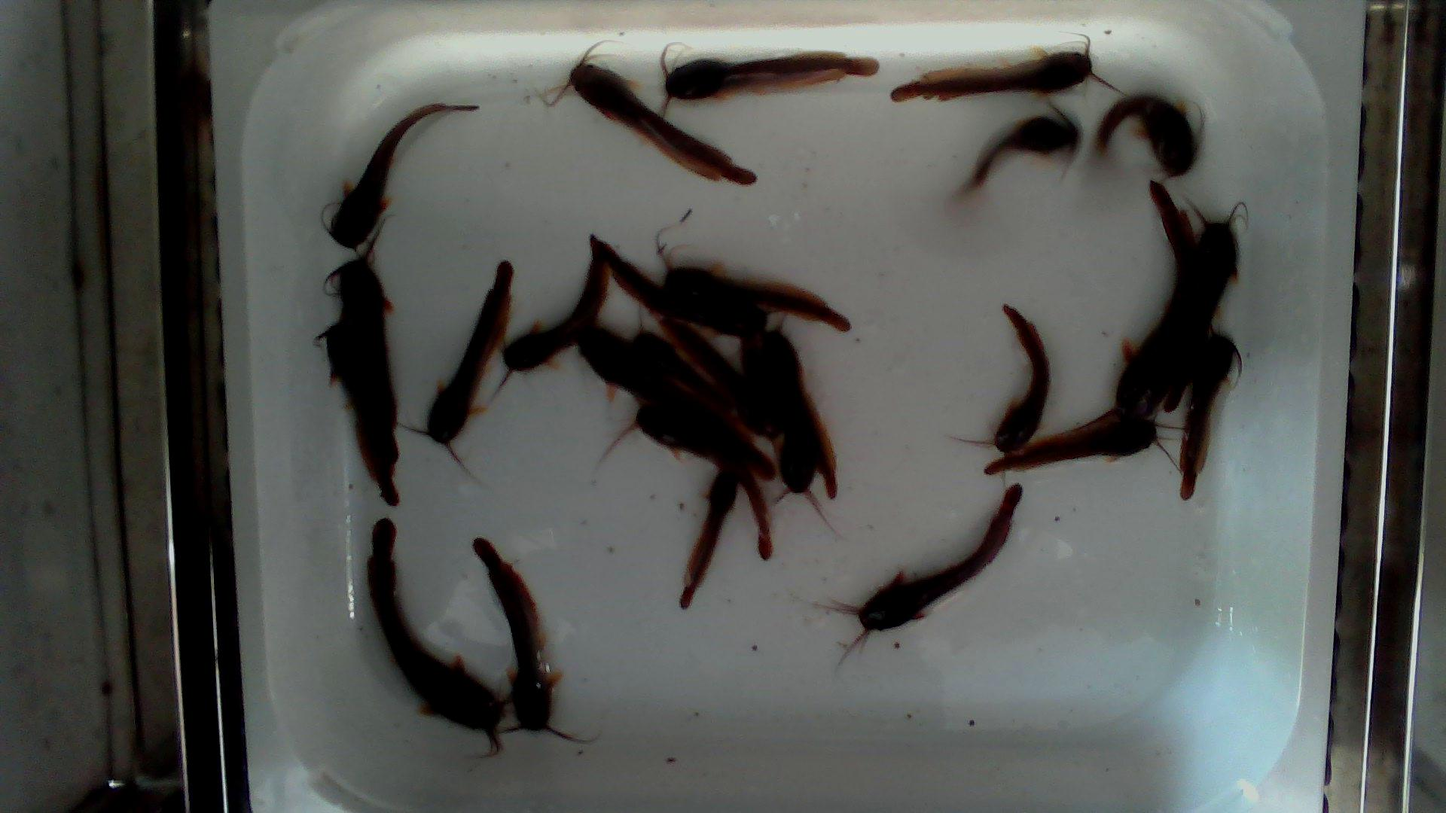lele: (368, 519, 504, 754), (828, 484, 1020, 650), (576, 324, 775, 480), (547, 40, 755, 184), (601, 403, 776, 561), (1094, 180, 1203, 420), (473, 538, 585, 741), (409, 260, 514, 465), (329, 104, 477, 248), (325, 218, 401, 465), (589, 235, 767, 337), (1162, 193, 1241, 412), (656, 247, 852, 333), (657, 320, 782, 453), (739, 338, 826, 528), (661, 41, 879, 114), (496, 255, 610, 393), (315, 322, 400, 506), (758, 313, 840, 500), (891, 34, 1118, 100), (632, 331, 752, 442), (960, 306, 1050, 452), (1178, 327, 1243, 501), (985, 418, 1178, 474), (1096, 94, 1199, 177), (966, 114, 1078, 189), (680, 472, 736, 609)
